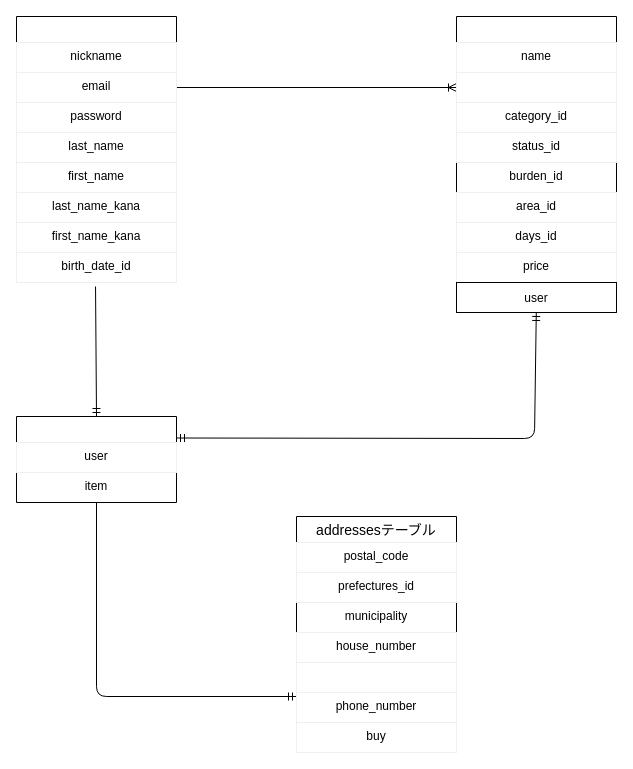
Image size: 633x769. Some labels were removed from this diagram. Each missing label, with the box of its shape:
building_name: (296, 662, 456, 692)
buysテーブル: (16, 416, 176, 502)
explanation: (456, 72, 616, 102)
itemsテーブル: (456, 16, 616, 312)
usersテーブル: (16, 16, 176, 282)
